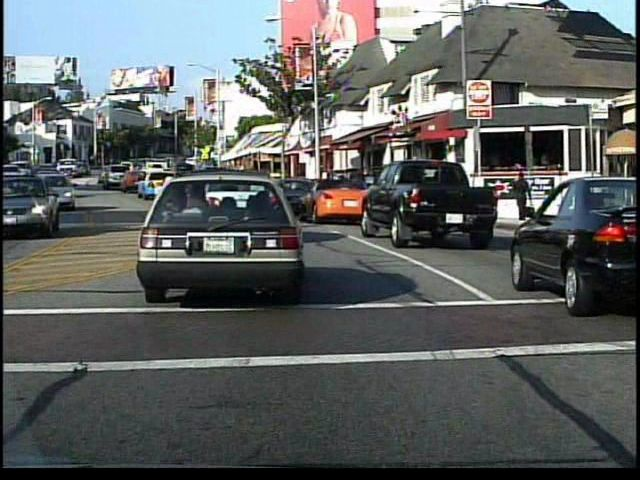person: (513, 168, 534, 229)
